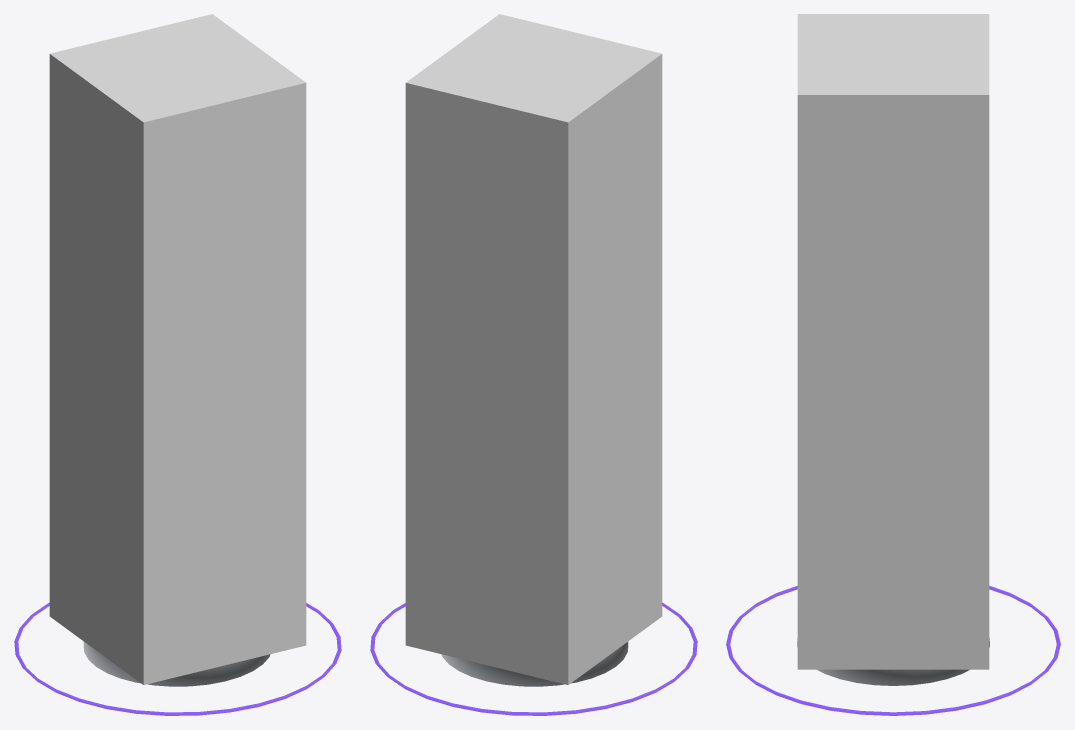
The model's file is Pet_JellyfishTank.gltf.
3 renders of one model, left to right at view 1: azimuth 30°, elevation 25°; view 2: azimuth 150°, elevation 25°; view 3: azimuth 270°, elevation 25°, orthographic. The views are drawn at different scales.
Visible parts, largest first — view 1: Pet_JellyfishTank_COL, Pet_JellyfishTank; view 2: Pet_JellyfishTank_COL, Pet_JellyfishTank; view 3: Pet_JellyfishTank_COL, Pet_JellyfishTank.
Part boxes in pixels (left/top/right/bottom): Pet_JellyfishTank_COL: left=49, top=14, right=306, bottom=684; Pet_JellyfishTank: left=14, top=602, right=341, bottom=715; Pet_JellyfishTank_COL: left=405, top=14, right=662, bottom=684; Pet_JellyfishTank: left=370, top=602, right=697, bottom=715; Pet_JellyfishTank_COL: left=797, top=14, right=989, bottom=669; Pet_JellyfishTank: left=726, top=586, right=1060, bottom=715.
Bounding box in the file's own units: 1.32 × 2.57 × 1.32.
